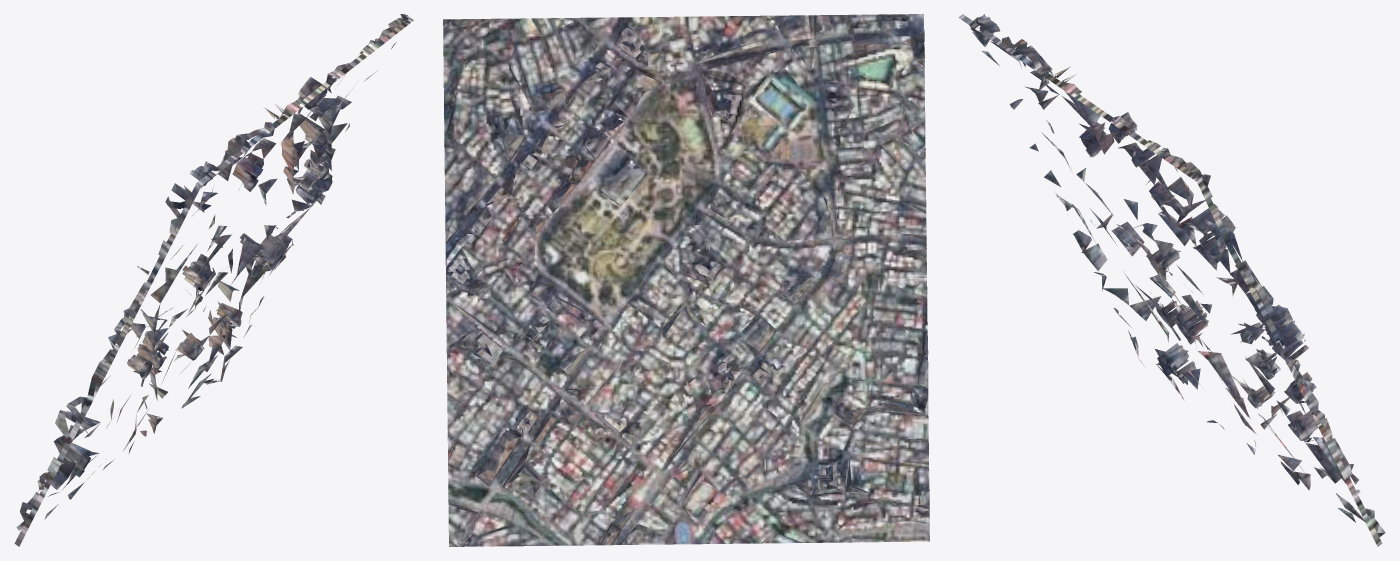
The picture shows the model from 3 angles, left to right: view 1: azimuth 30°, elevation 25°; view 2: azimuth 150°, elevation 25°; view 3: azimuth 270°, elevation 25°; orthographic projection. The views are drawn at different scales.
Size of the model in its own units: 1222 by 1133 by 1038.
Materials: 2 (2 with a texture image).
